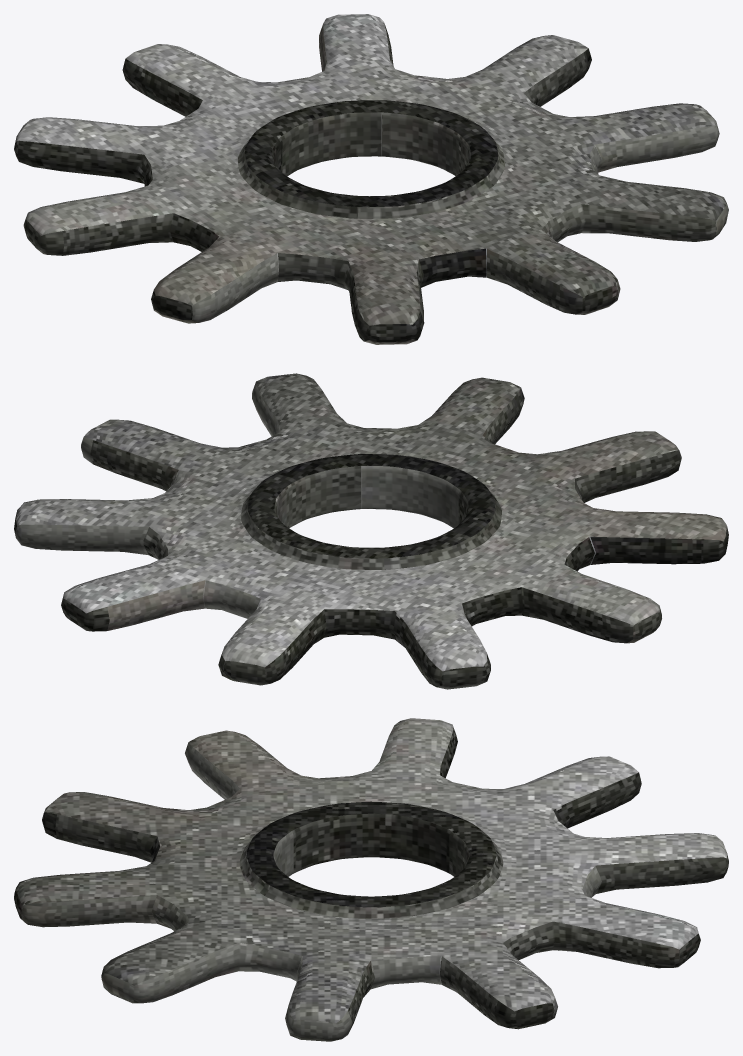
Rendered from Gear.fbx.
3 renders of one model, top to bottom at view 1: azimuth 30°, elevation 25°; view 2: azimuth 150°, elevation 25°; view 3: azimuth 270°, elevation 25°, orthographic. The views are drawn at different scales.
Parts seen in each view (by area): view 1: Bolts; view 2: Bolts; view 3: Bolts.
Boxes of the visible parts, x1=… form: Bolts: x1=14, y1=14, x2=728, y2=344; Bolts: x1=14, y1=373, x2=728, y2=689; Bolts: x1=14, y1=718, x2=728, y2=1041.
Bounding box in the file's own units: 2.18 × 0.1548 × 2.18.
Materials: 1 (1 with a texture image).
